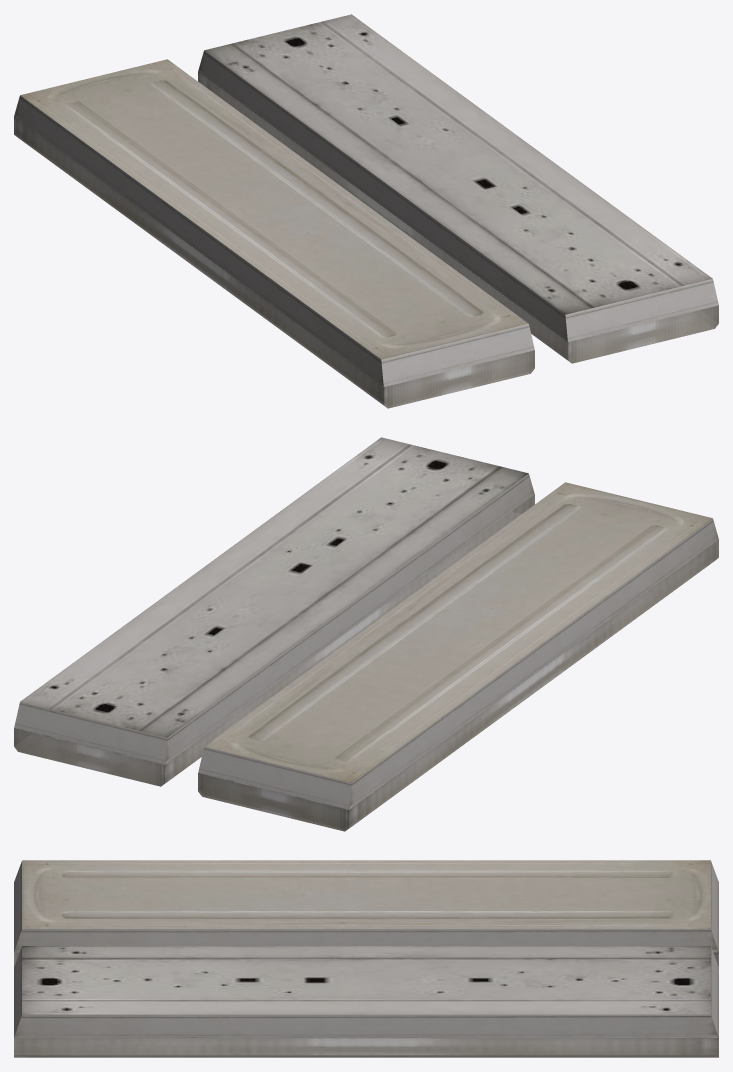
Rendered from tubo.glb.
The picture shows the model from 3 angles, top to bottom: view 1: azimuth 30°, elevation 25°; view 2: azimuth 150°, elevation 25°; view 3: azimuth 270°, elevation 25°; orthographic projection. The views are drawn at different scales.
Parts seen in each view (by area): view 1: Base_001_Base_0, Base_Base_0, CoverGlass_Glass_0, CoverGlass_001_Glass_0; view 2: Base_001_Base_0, Base_Base_0, CoverGlass_Glass_0, CoverGlass_001_Glass_0; view 3: Base_001_Base_0, Base_Base_0, CoverGlass_001_Glass_0.
Part boxes in pixels (left/top/right/bottom): Base_001_Base_0: left=198, top=14, right=718, bottom=342; Base_Base_0: left=14, top=59, right=534, bottom=386; CoverGlass_Glass_0: left=14, top=117, right=534, bottom=408; CoverGlass_001_Glass_0: left=198, top=72, right=718, bottom=363; Base_001_Base_0: left=14, top=437, right=534, bottom=765; Base_Base_0: left=198, top=482, right=718, bottom=809; CoverGlass_Glass_0: left=198, top=540, right=718, bottom=831; CoverGlass_001_Glass_0: left=14, top=495, right=534, bottom=786; Base_001_Base_0: left=14, top=946, right=718, bottom=1038; Base_Base_0: left=14, top=860, right=718, bottom=952; CoverGlass_001_Glass_0: left=14, top=1038, right=718, bottom=1057.
Size of the model in its own units: 0.7877 by 0.1042 by 1.51.
Materials: 3 (2 with a texture image).
